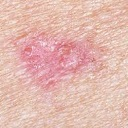Carcinoma: (15, 27, 106, 84)
